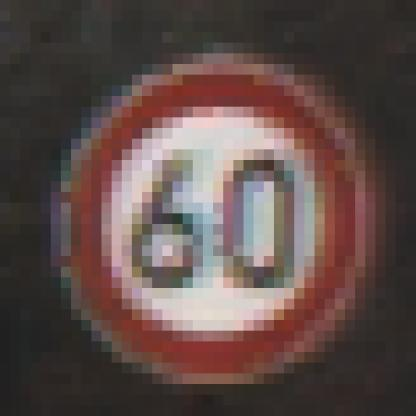Speed Limit -60-: (84, 61, 383, 387)
